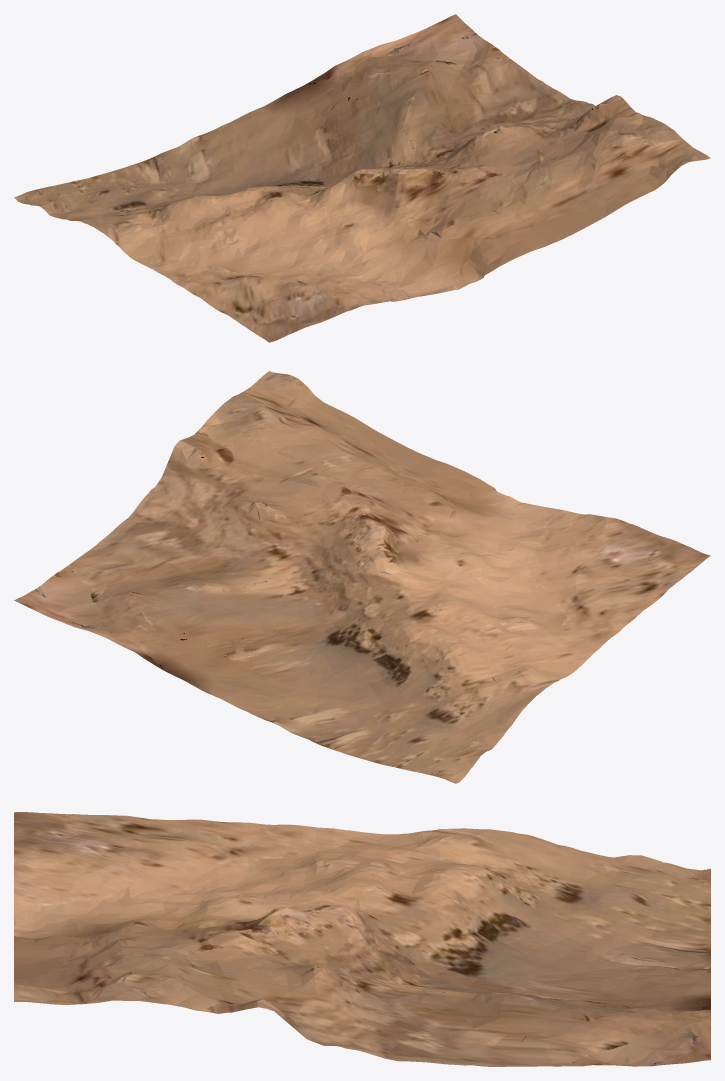
3 views of the same model, one above another, from view 1: azimuth 30°, elevation 25°; view 2: azimuth 150°, elevation 25°; view 3: azimuth 270°, elevation 25° (orthographic). The views are drawn at different scales.
Size of the model in its own units: 1.04 by 0.2726 by 1.04.
Materials: 2 (2 with a texture image).
